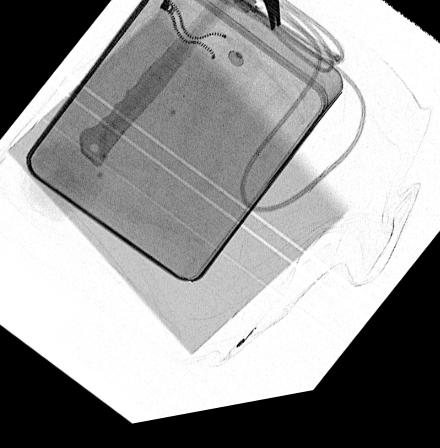Hammer: (76, 0, 282, 172)
